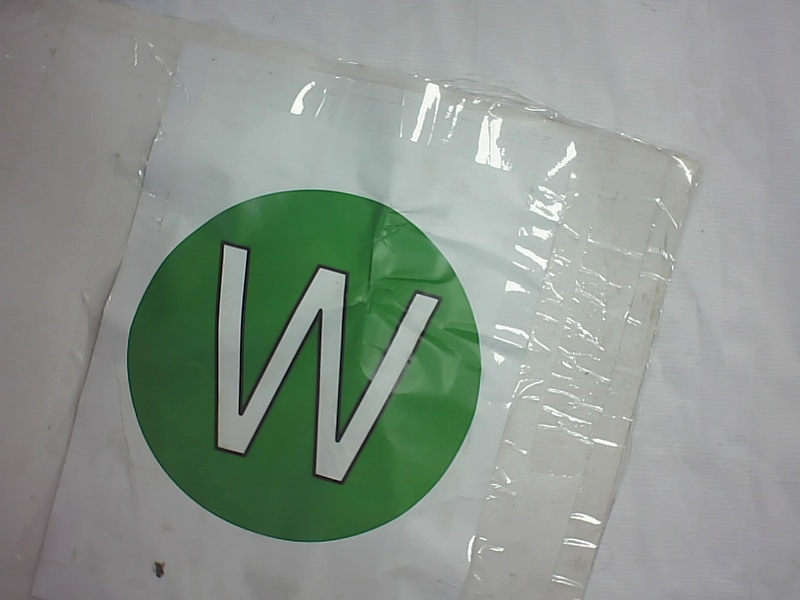areaB: (111, 187, 498, 549)
